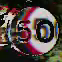Speed limit: (3, 9, 55, 58)
